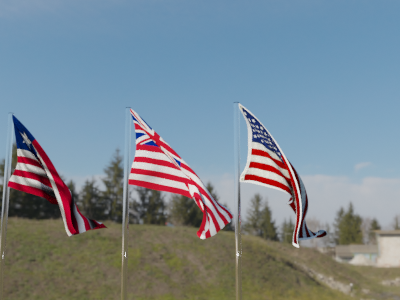America flag: (240, 102, 333, 247)
Liberia flag: (12, 113, 109, 235)
Malaysia flag: (128, 106, 234, 241)
